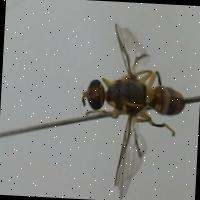Oriental-fruit-fly: (65, 5, 193, 200)
